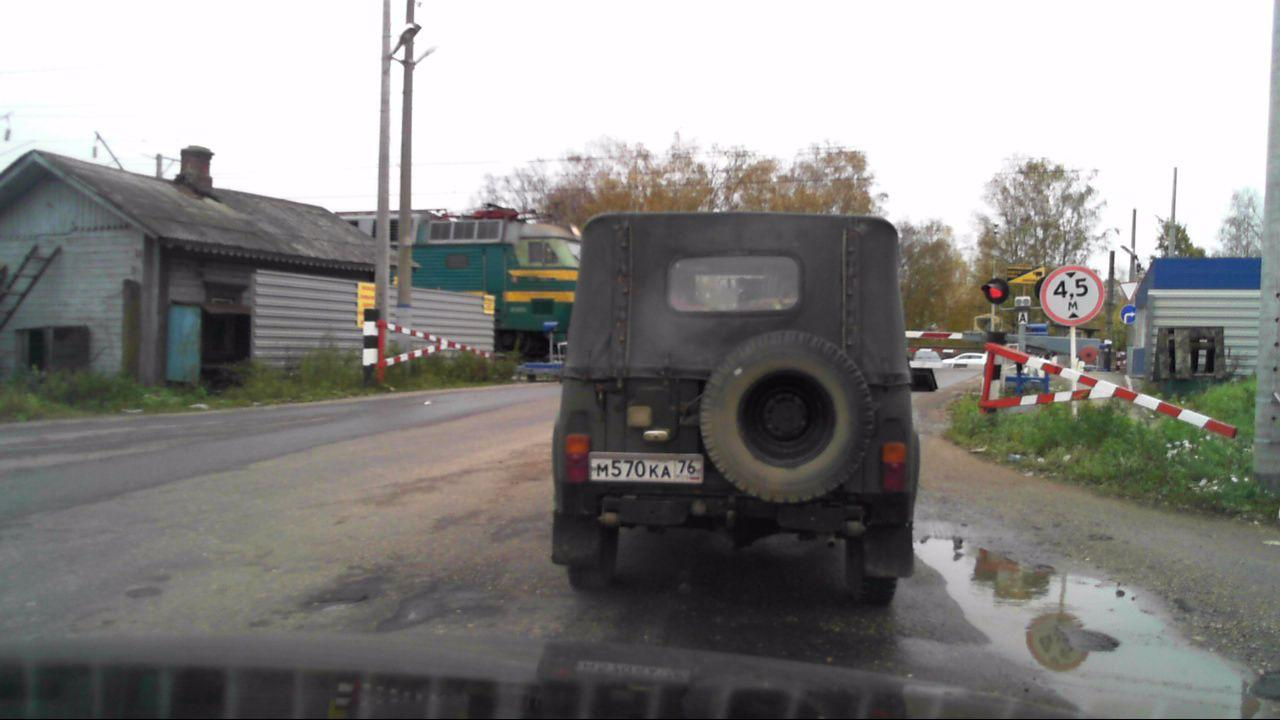pothole: (372, 591, 446, 631), (310, 595, 373, 612)
road_sign: (1040, 266, 1104, 325), (1118, 281, 1140, 304), (1121, 305, 1136, 324)
traffic light: (981, 278, 1010, 304)
